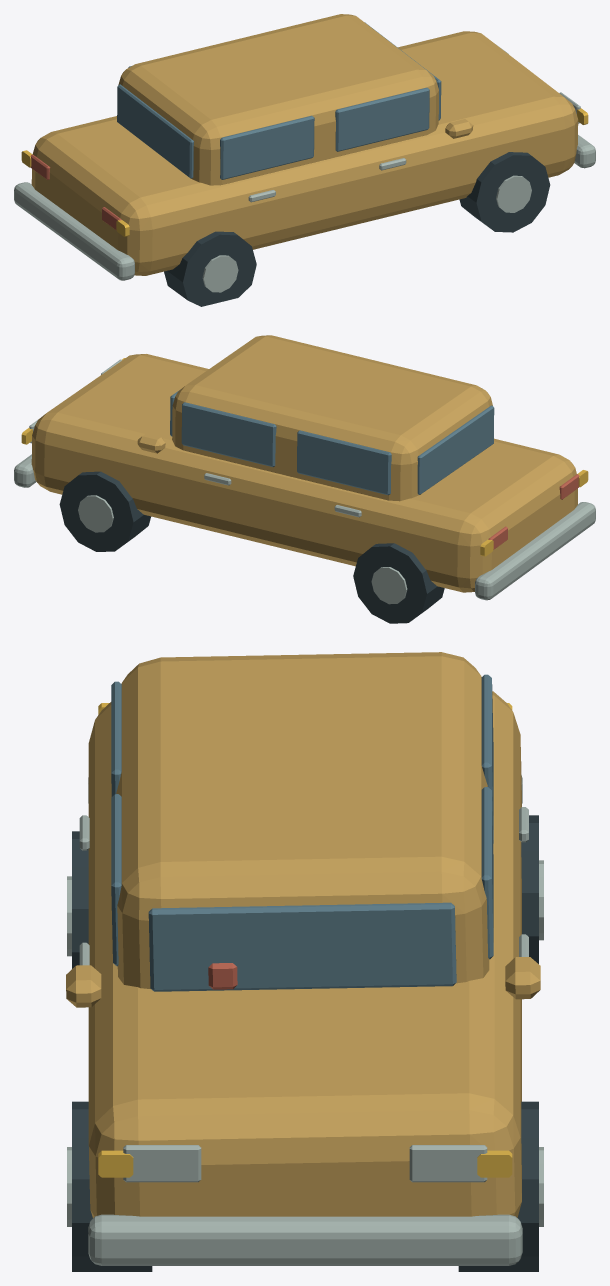
Rendered from car_wreck.glb.
3 views of the same model, one above another, from view 1: azimuth 30°, elevation 25°; view 2: azimuth 150°, elevation 25°; view 3: azimuth 270°, elevation 25° (orthographic). The views are drawn at different scales.
Parts seen in each view (by area): view 1: Keep_Mesh; view 2: Keep_Mesh; view 3: Keep_Mesh.
Part boxes in pixels (left/top/right/bottom): Keep_Mesh: left=14, top=14, right=595, bottom=306; Keep_Mesh: left=14, top=335, right=595, bottom=623; Keep_Mesh: left=66, top=652, right=543, bottom=1271.
Bounding box in the file's own units: 4.4 × 1.47 × 1.9.
